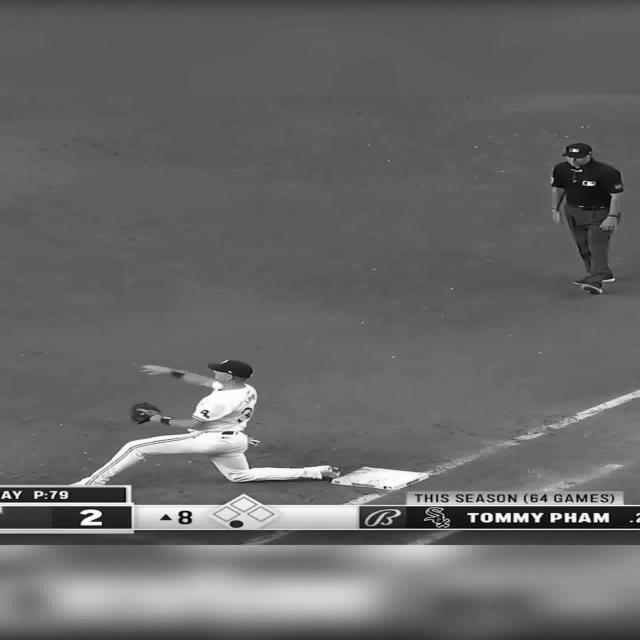base: (331, 466, 429, 490)
baseball_glove: (131, 402, 160, 424)
shoe: (319, 465, 342, 479), (582, 284, 602, 294), (592, 276, 616, 282), (573, 278, 589, 285)
